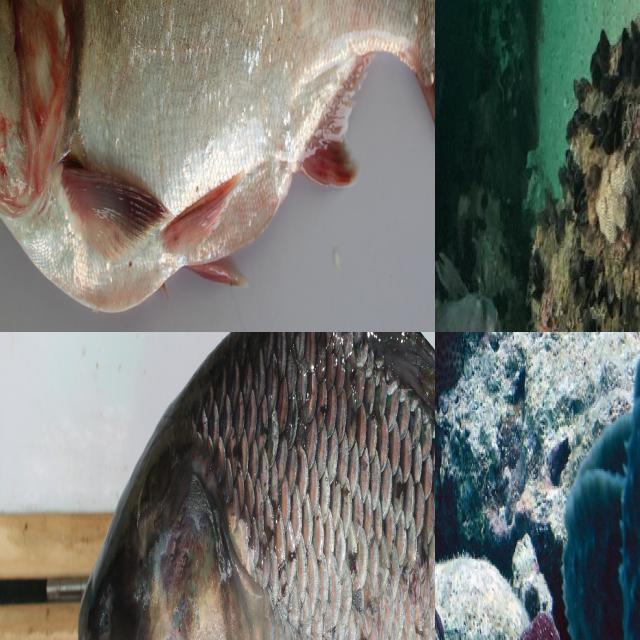fish: (0, 0, 435, 332), (66, 332, 435, 640)
